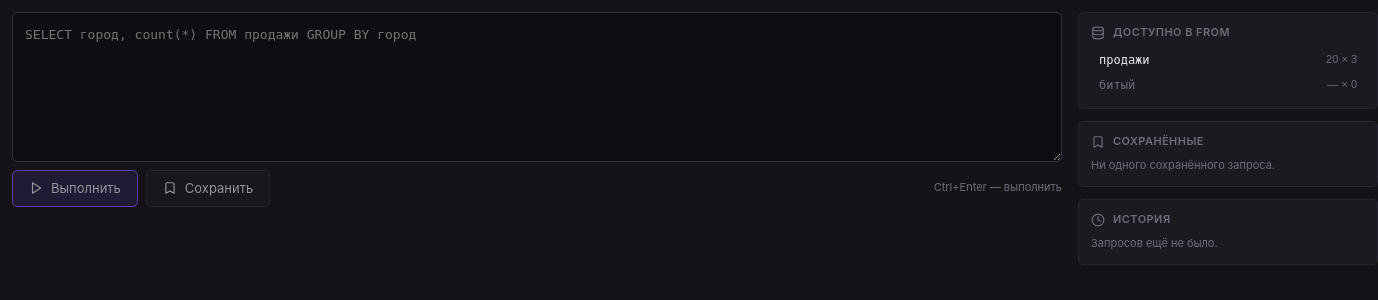
Test: окно SQL › занятое имя показывается как понятная ошибка, а форма остаётся открытой
This screenshot has width=1378, height=300.
Type "SELECT 1 FROM продажи" into the text box named "Текст SQL-запроса" at (537, 87), box top-left (12, 12), bottom-right (1062, 162)
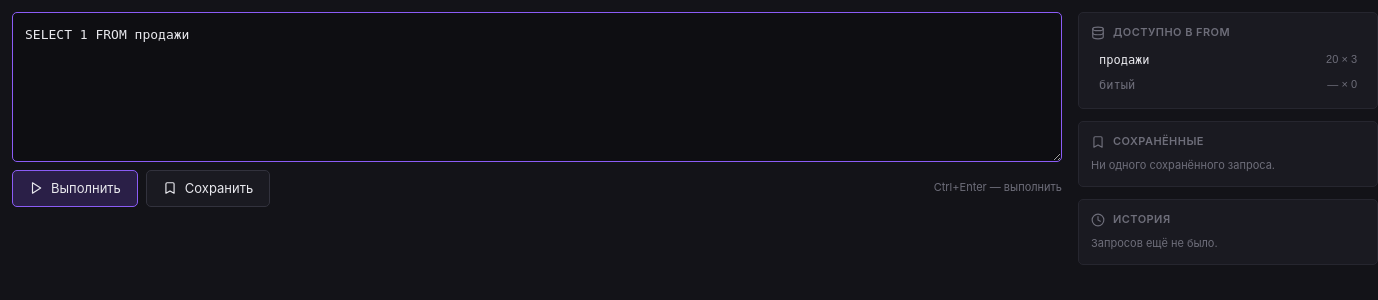
Click the button "Сохранить" at (208, 188), box top-left (146, 170), bottom-right (270, 207)
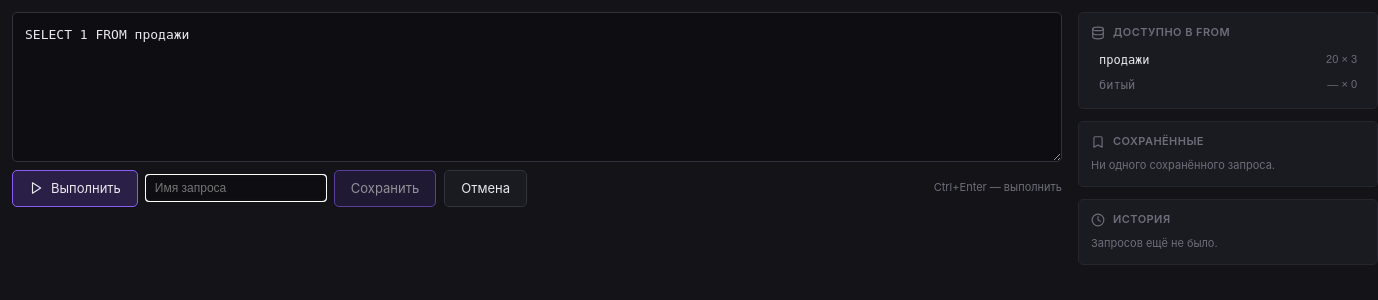
Type "Выручка" into the field named "Имя сохранённого запроса" at (236, 188), box top-left (146, 175), bottom-right (326, 201)
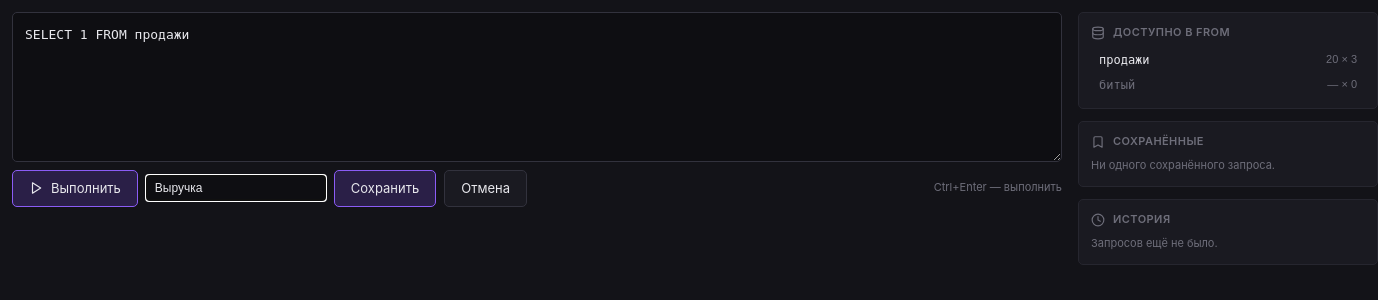
Click the button "Сохранить" at (385, 188), box top-left (334, 170), bottom-right (436, 207)
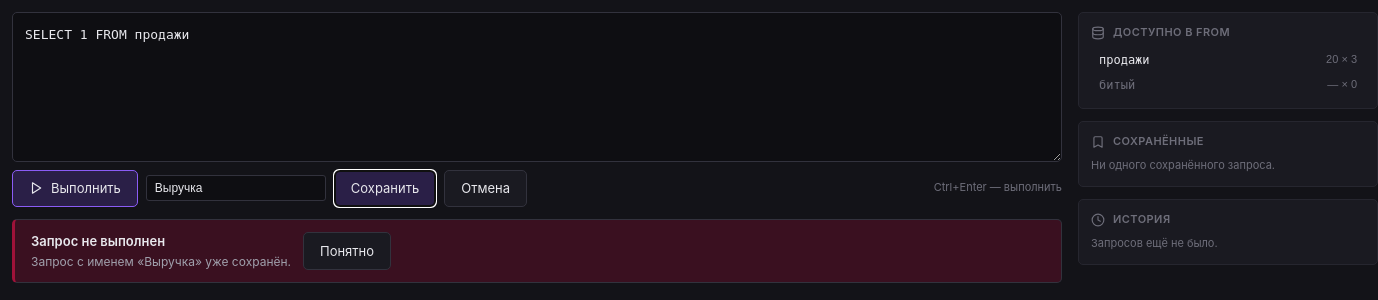
Check: the text "Запрос с именем «Выручка» уже сохранён." is shown, box top-left (31, 253), bottom-right (291, 270)
